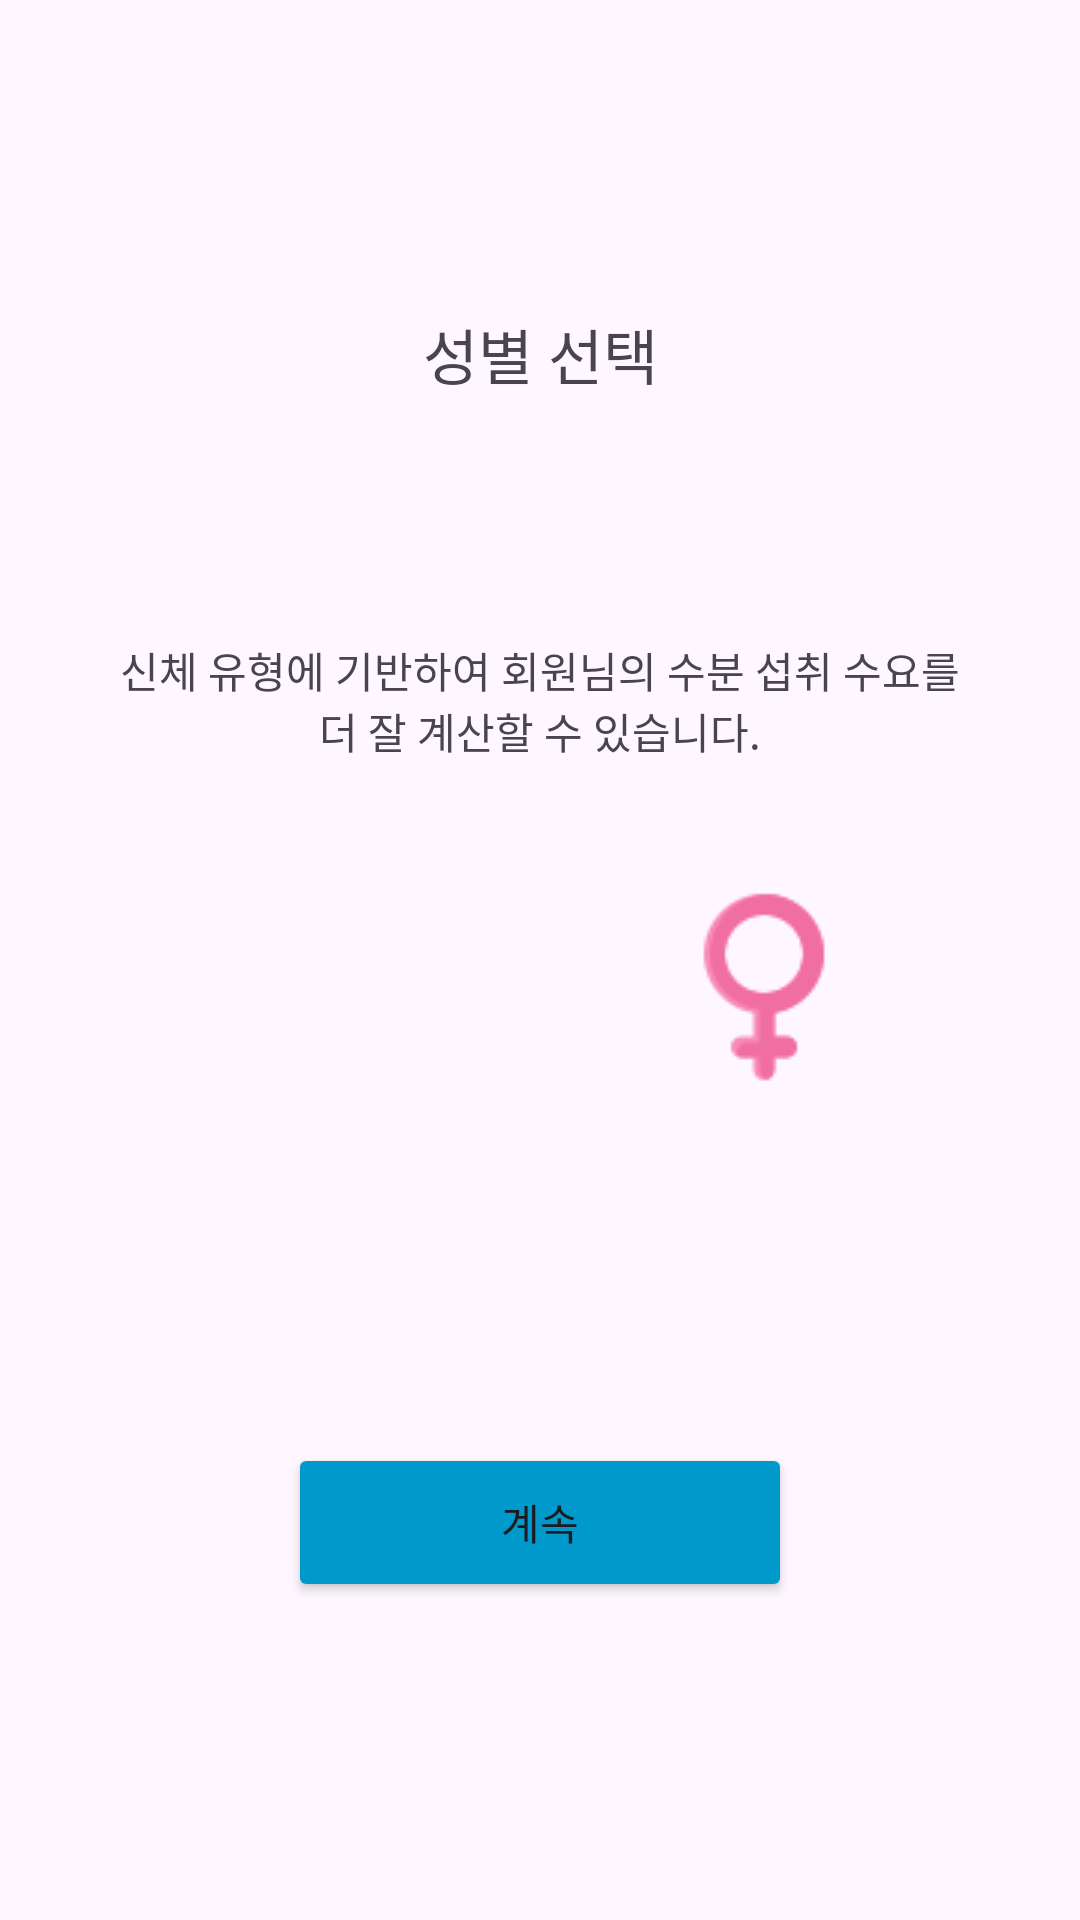

Point at icon controls on the screen. Image size 1080px×1920px, points as point (x, y).
female: point (764, 987)
